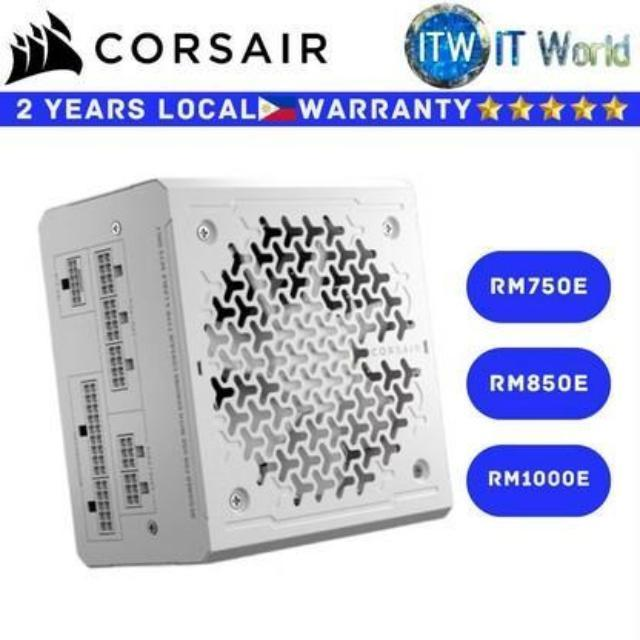PSU: (34, 174, 463, 580)
